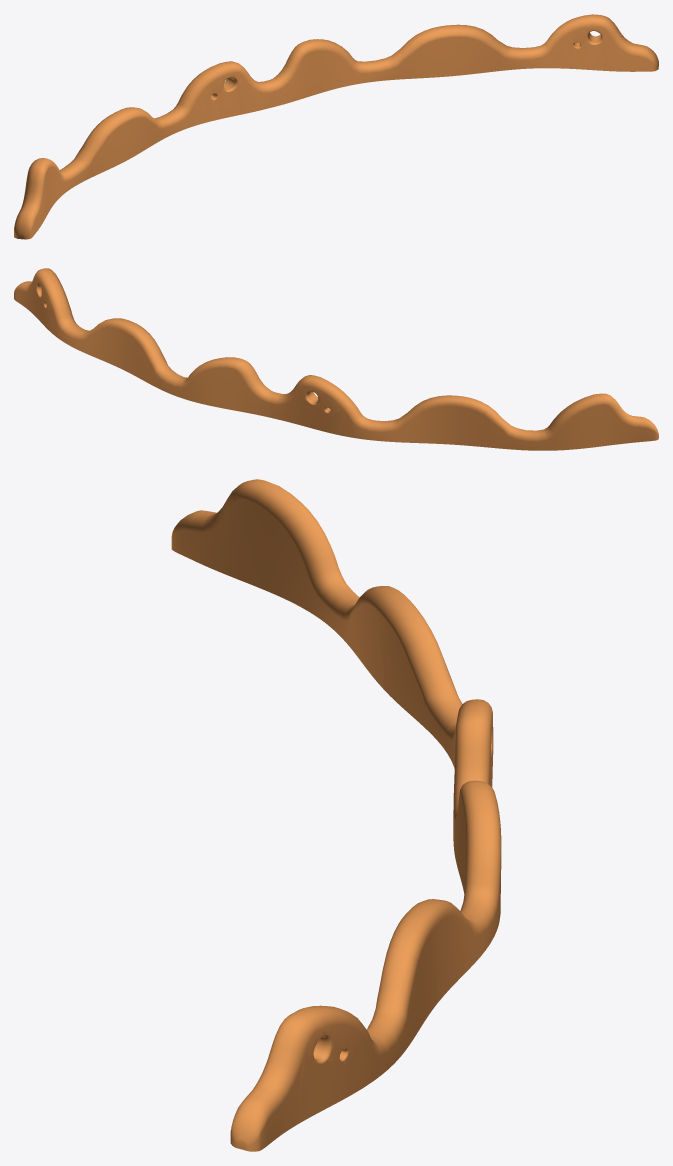
File: c3_wall.fbx
The picture shows the model from 3 angles, top to bottom: view 1: azimuth 30°, elevation 25°; view 2: azimuth 150°, elevation 25°; view 3: azimuth 270°, elevation 25°; orthographic projection. The views are drawn at different scales.
Parts seen in each view (by area): view 1: c3_wall; view 2: c3_wall; view 3: c3_wall.
Part boxes in pixels (x1,y1,x2,y2): c3_wall: [14, 14, 658, 239]; c3_wall: [14, 268, 658, 450]; c3_wall: [171, 479, 501, 1151].
Bounding box in the file's own units: 4332 × 315 × 986.
